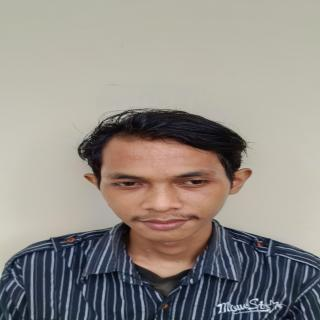Netral: (98, 128, 234, 244)
